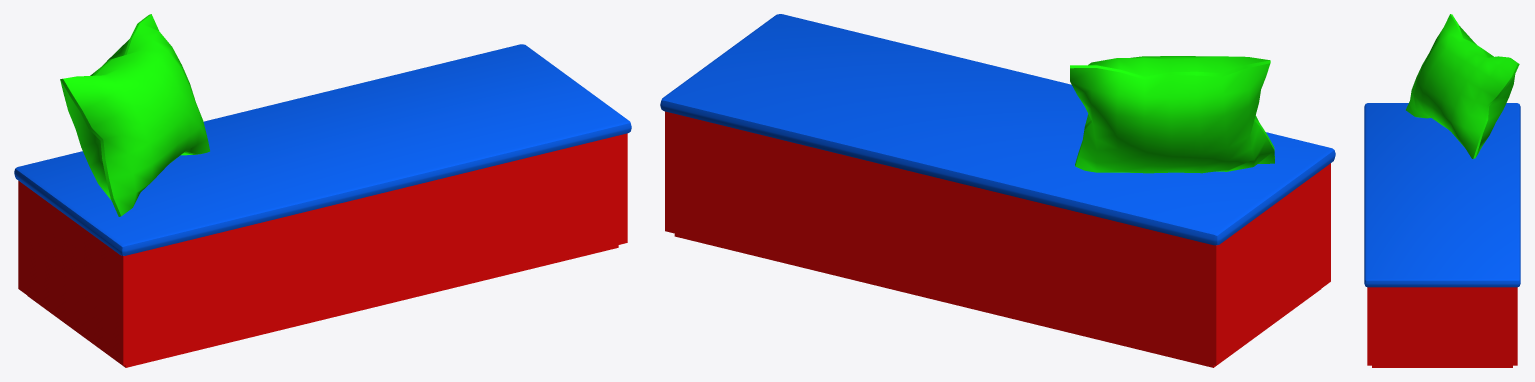
File: hospital_fnt_sillon1.fbx
3 renders of one model, left to right at view 1: azimuth 30°, elevation 25°; view 2: azimuth 150°, elevation 25°; view 3: azimuth 270°, elevation 25°, orthographic. The views are drawn at different scales.
Visible parts, largest first — view 1: hospital_fnt_sillon1; view 2: hospital_fnt_sillon1; view 3: hospital_fnt_sillon1.
Part boxes in pixels (x1,y1,x2,y2): hospital_fnt_sillon1: (14, 14, 631, 367); hospital_fnt_sillon1: (660, 14, 1335, 367); hospital_fnt_sillon1: (1364, 14, 1520, 367).
Bounding box in the file's own units: 183 × 85.7 × 67.71.
